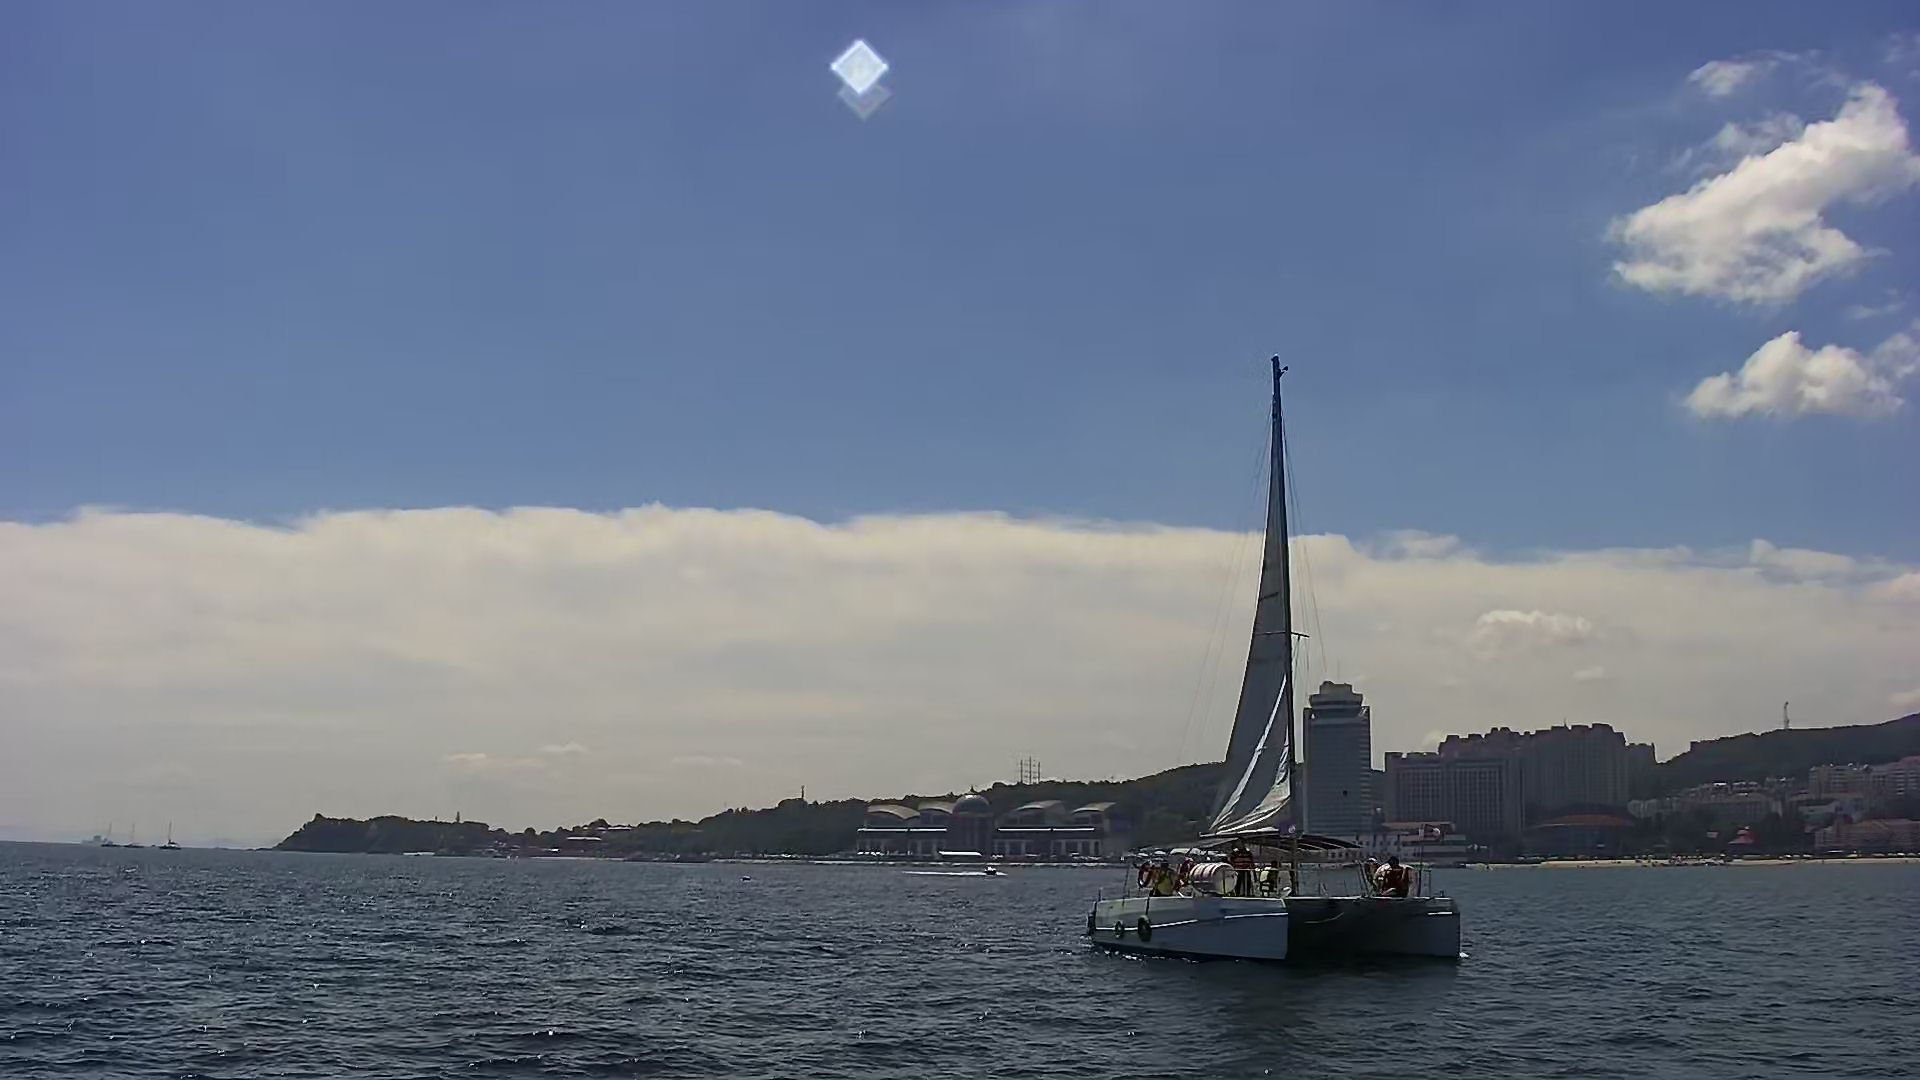boat: (1084, 349, 1465, 967)
